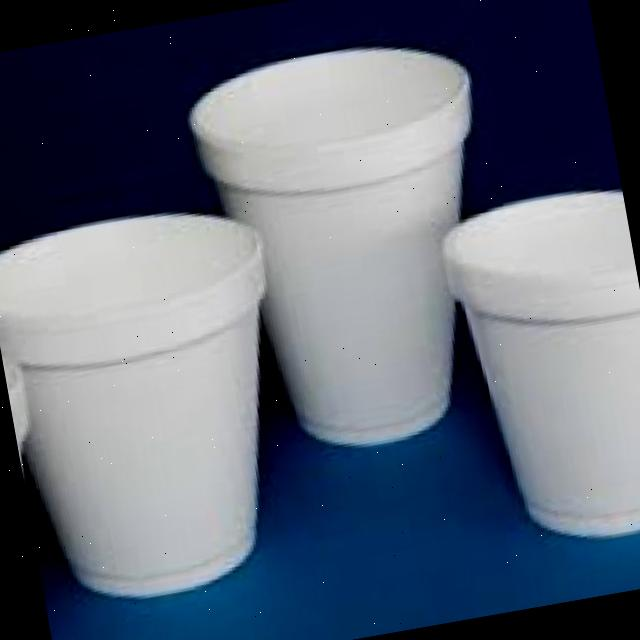trash: (181, 21, 537, 463), (0, 190, 323, 609), (440, 175, 640, 550), (0, 337, 69, 620)
